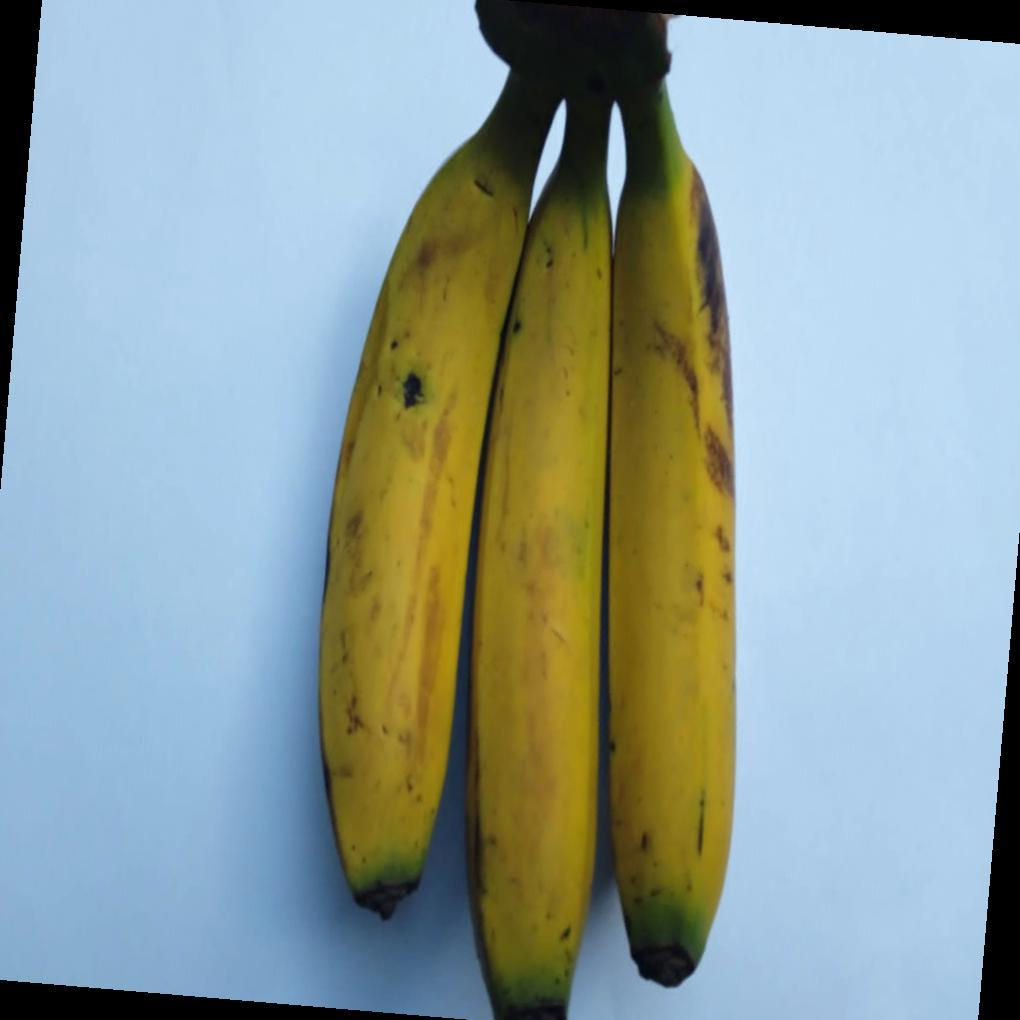Banana Ripe: (275, 13, 817, 999), (465, 86, 613, 1010)
